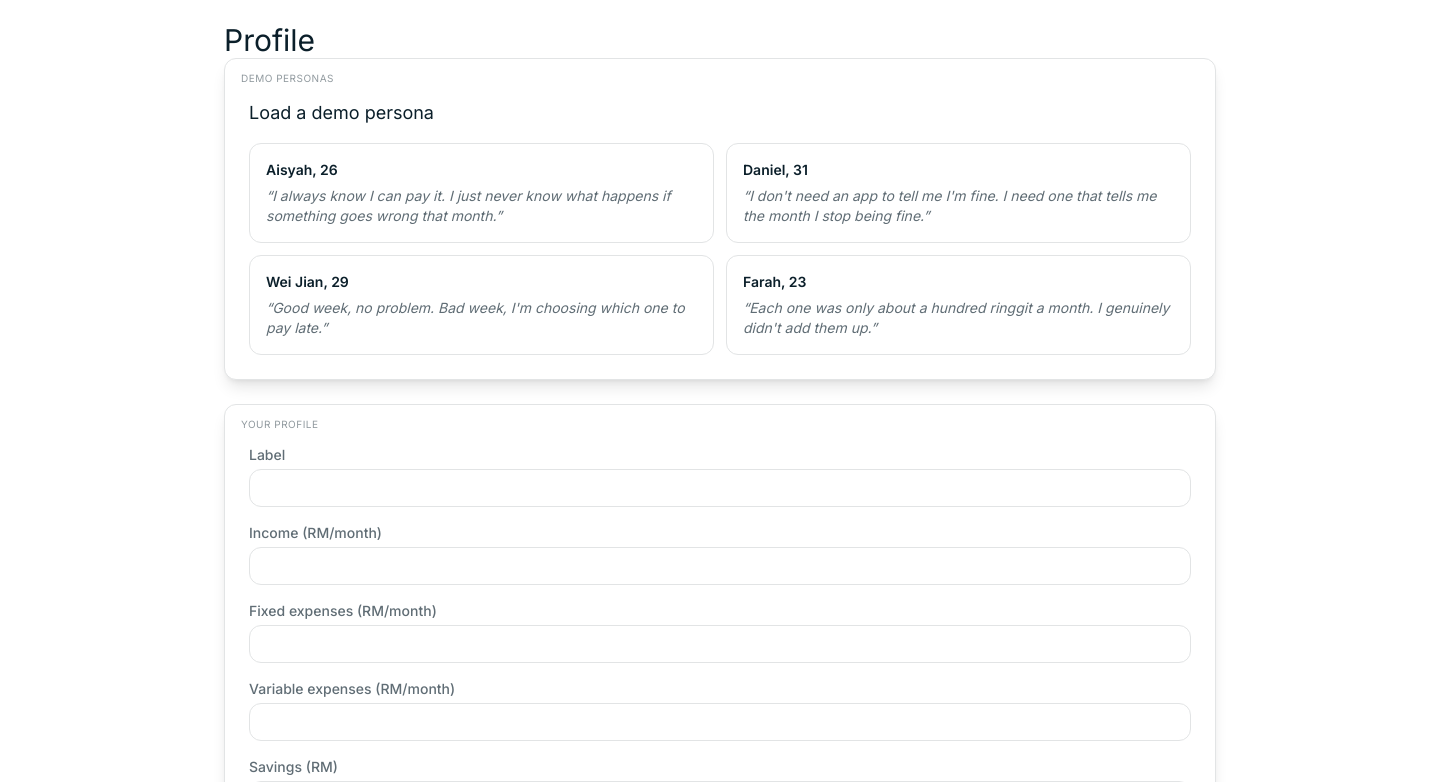
Test case: ProfilePage › saving stores the returned profile_id and shows a confirmation
This screenshot has width=1440, height=782.
Type "4500" into the number field labelled "Income (RM/month)". click: (720, 566)
box: [249,547,1191,585]
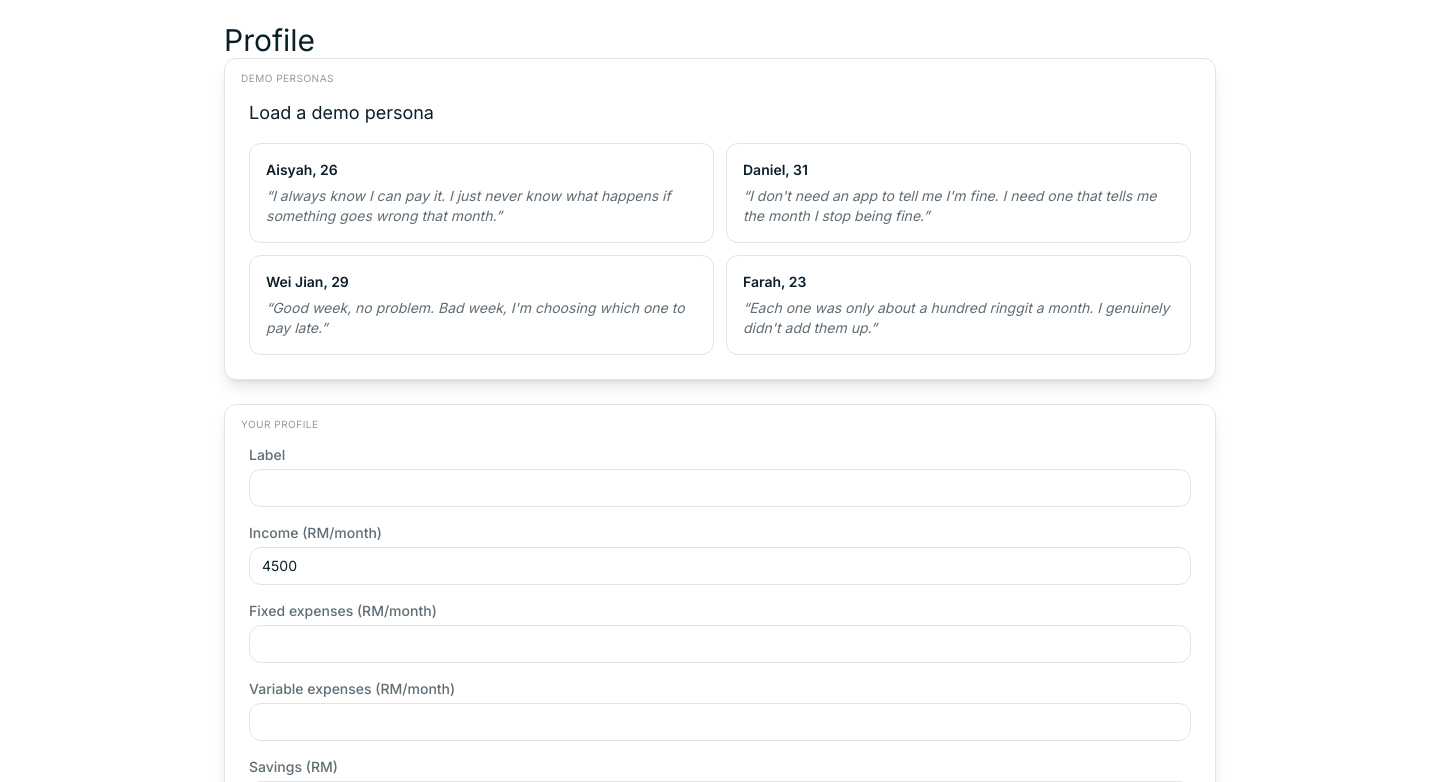
Type "1984" into the number field labelled "Fixed expenses (RM/month)". click: (720, 644)
box: [249,625,1191,663]
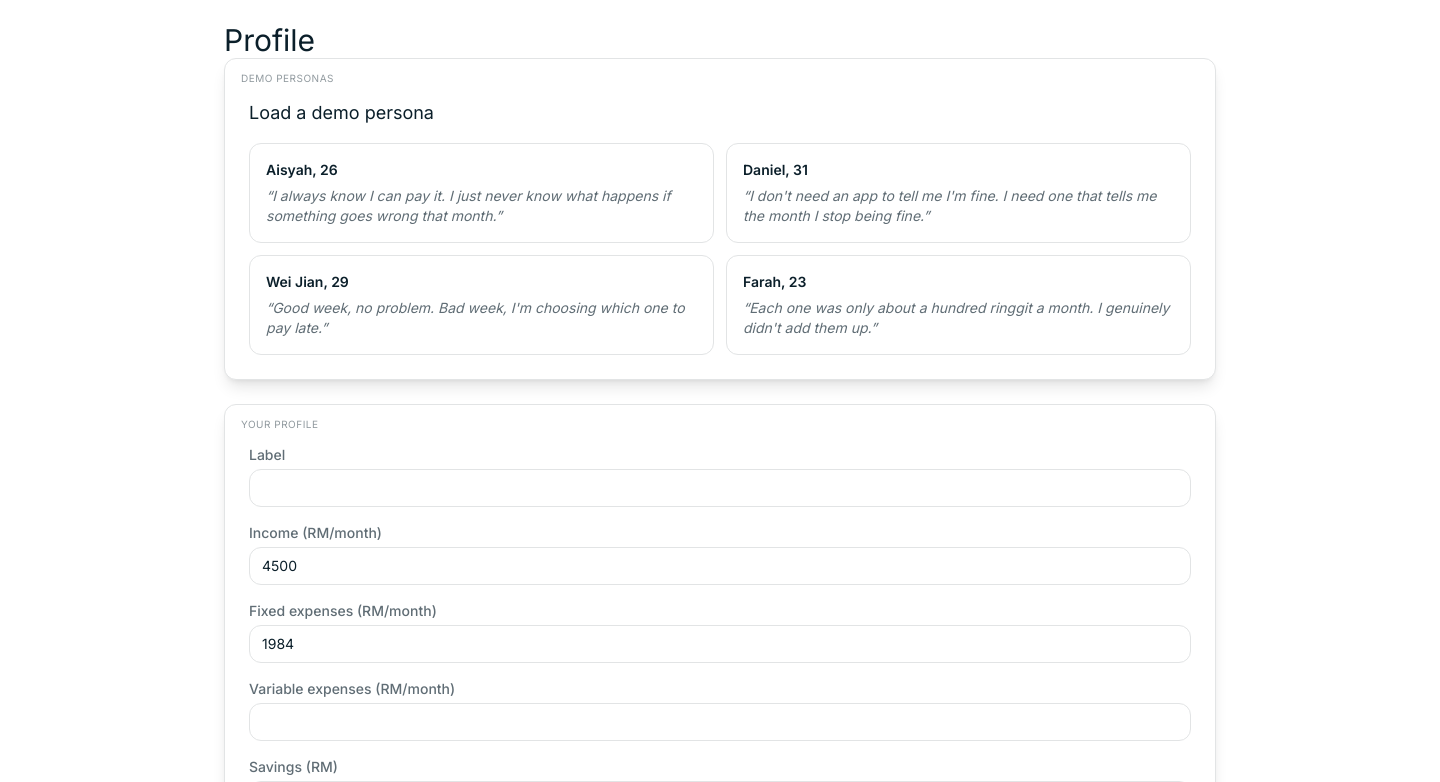
Type "1216" into the number field labelled "Variable expenses (RM/month)". click: (720, 722)
box: [249,703,1191,741]
(page scrolled)
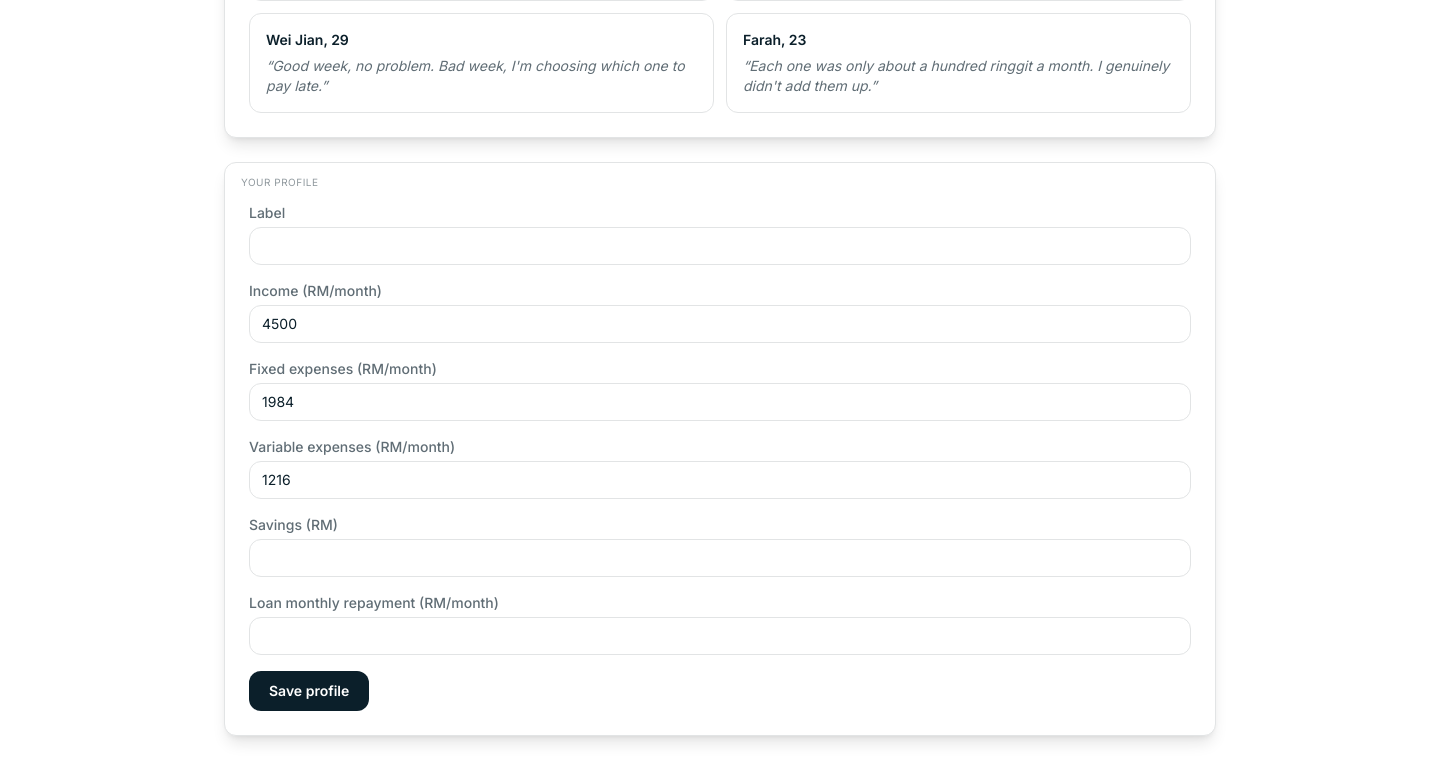
Type "2250" into the number field labelled "Savings (RM)". click: (720, 558)
box: [249,539,1191,577]
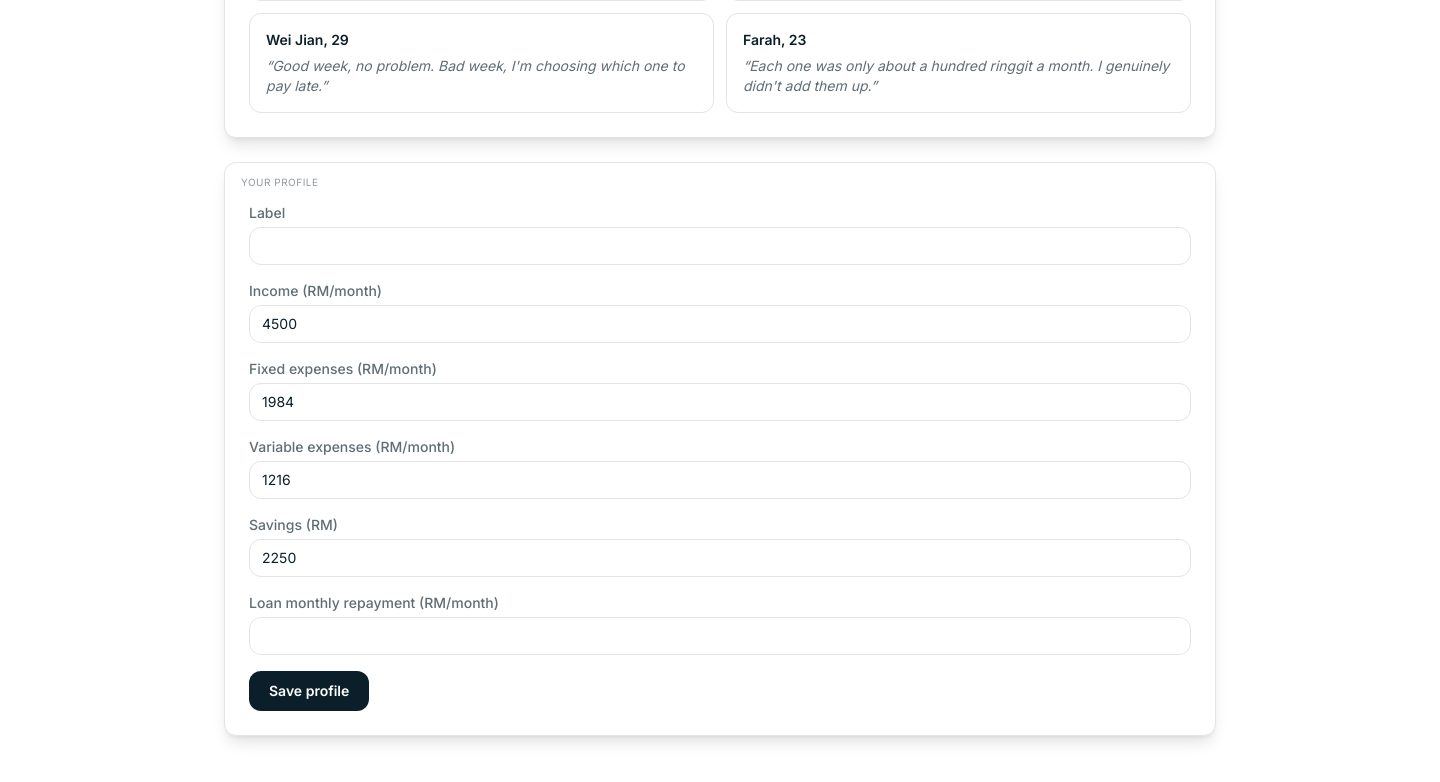
Type "100" into the number field labelled "Loan monthly repayment (RM/month)". click: (720, 636)
box: [249,617,1191,655]
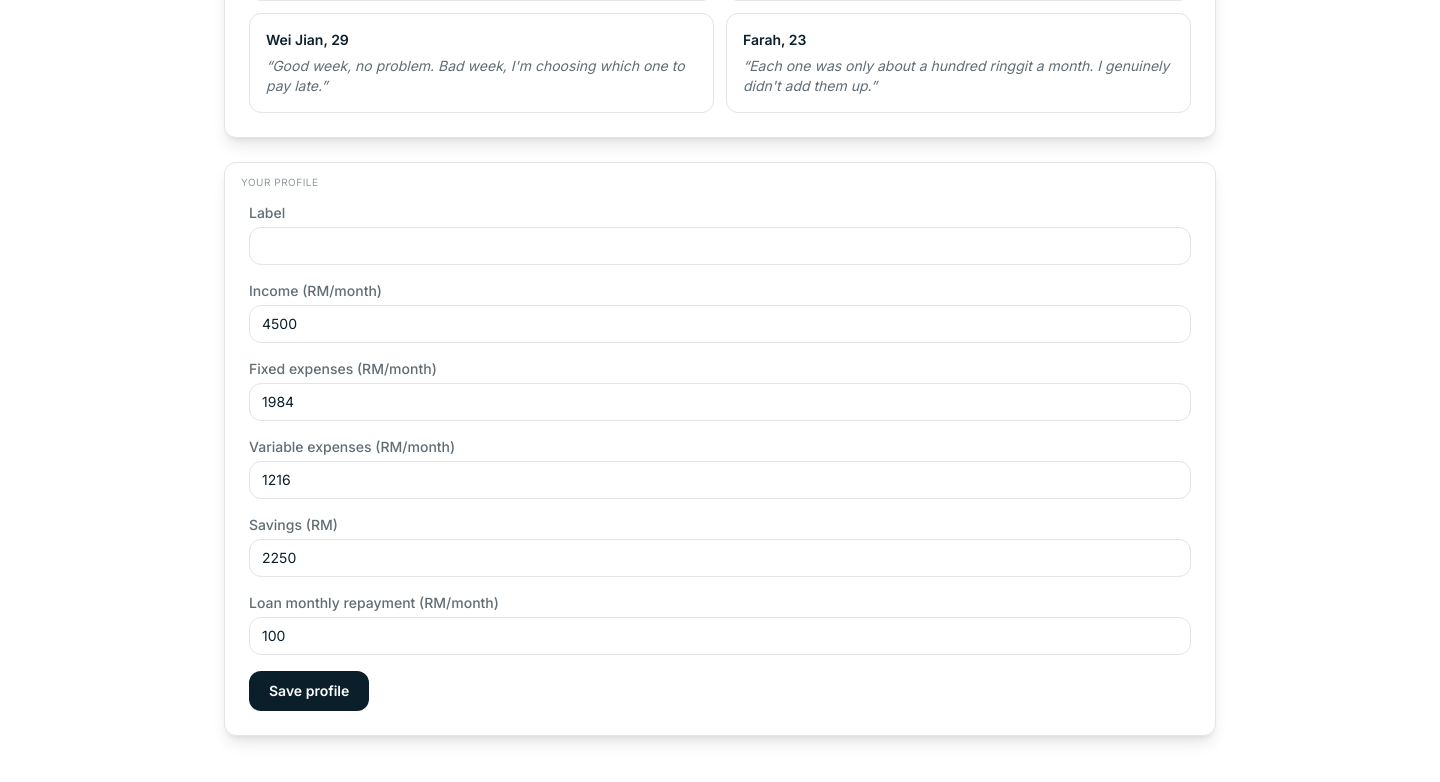
Click the button "Save profile". click: (309, 691)
box: [249,671,369,711]
(page scrolled)
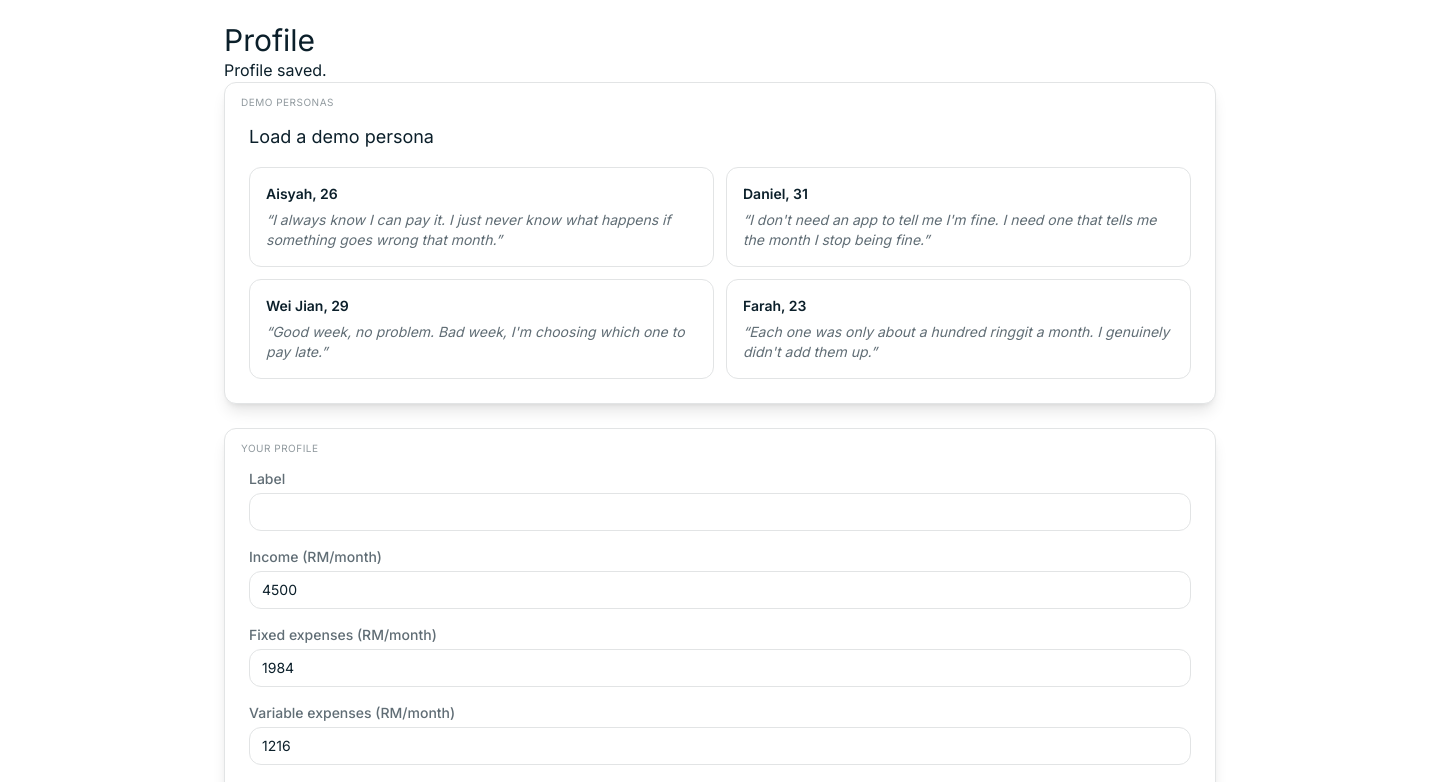
Check: the message shows "saved", box [224,60,327,80]
